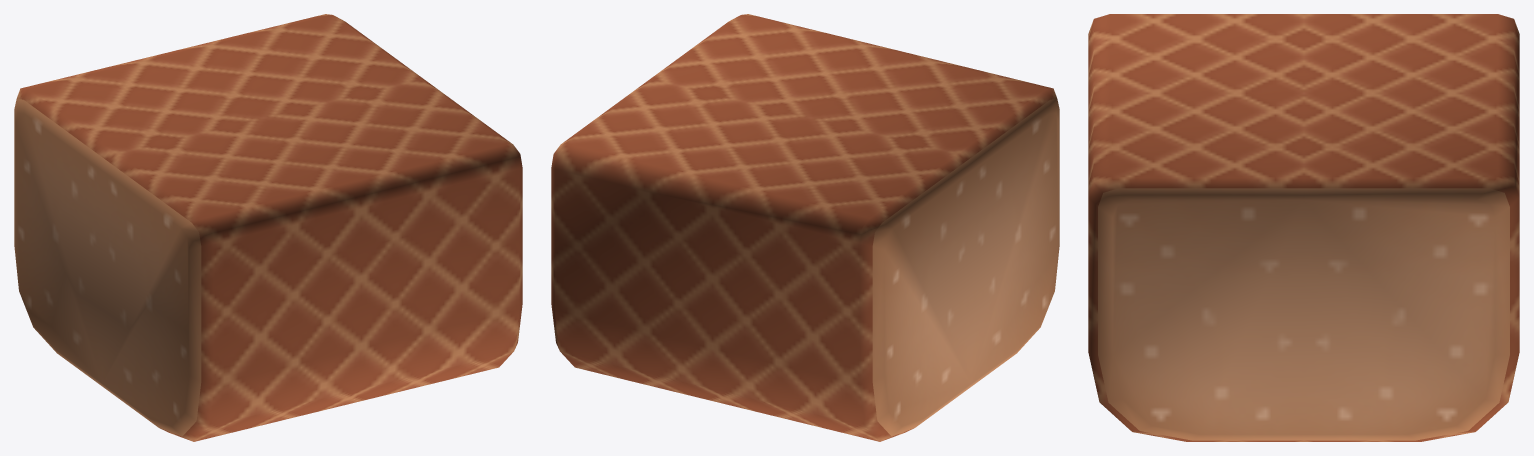
The model's file is Ham.FBX.
3 views of the same model, side by side, from view 1: azimuth 30°, elevation 25°; view 2: azimuth 150°, elevation 25°; view 3: azimuth 270°, elevation 25° (orthographic). The views are drawn at different scales.
Parts seen in each view (by area): view 1: Ham; view 2: Ham; view 3: Ham.
Boxes of the visible parts, x1=… form: Ham: x1=14, y1=14, x2=522, y2=441; Ham: x1=551, y1=14, x2=1059, y2=441; Ham: x1=1088, y1=14, x2=1519, y2=441.
Size of the model in its own units: 161 by 111 by 165.
